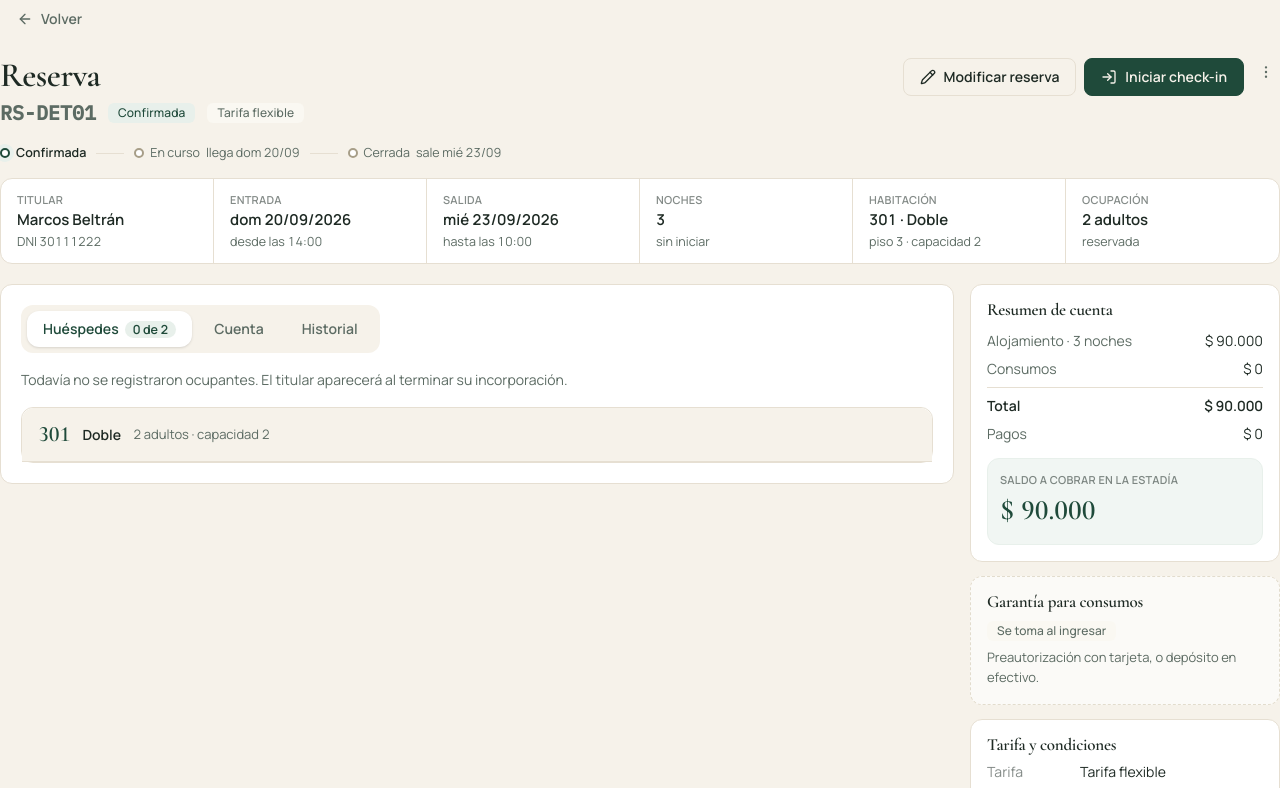
ReservaDetallePage — aviso de la penalidad al cancelar › con prepago: avisa lo que se retiene y lo que se devuelve
Click the button named "Más acciones de la reserva" at {"x": 1266, "y": 72}, box [1252,58,1279,86]
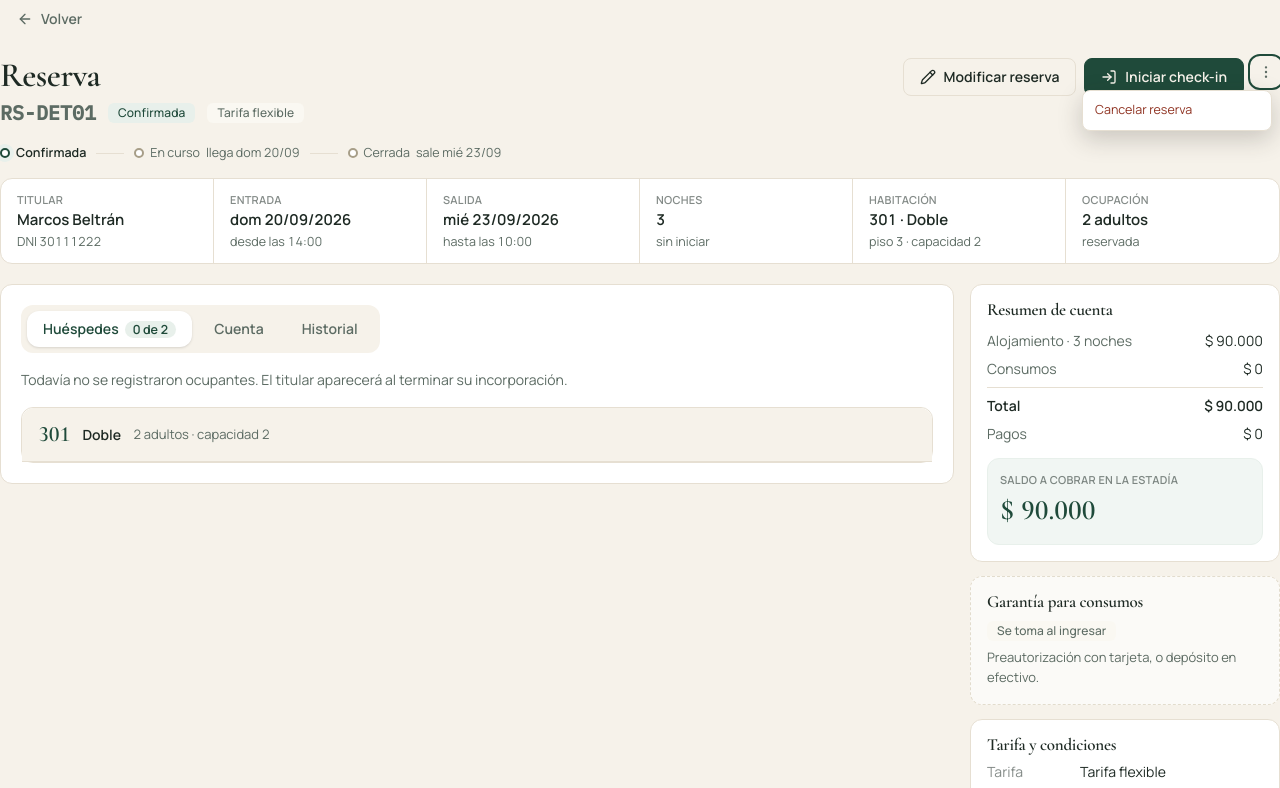
Click the button "Cancelar reserva" at {"x": 1177, "y": 110}, box [1083,95,1271,126]
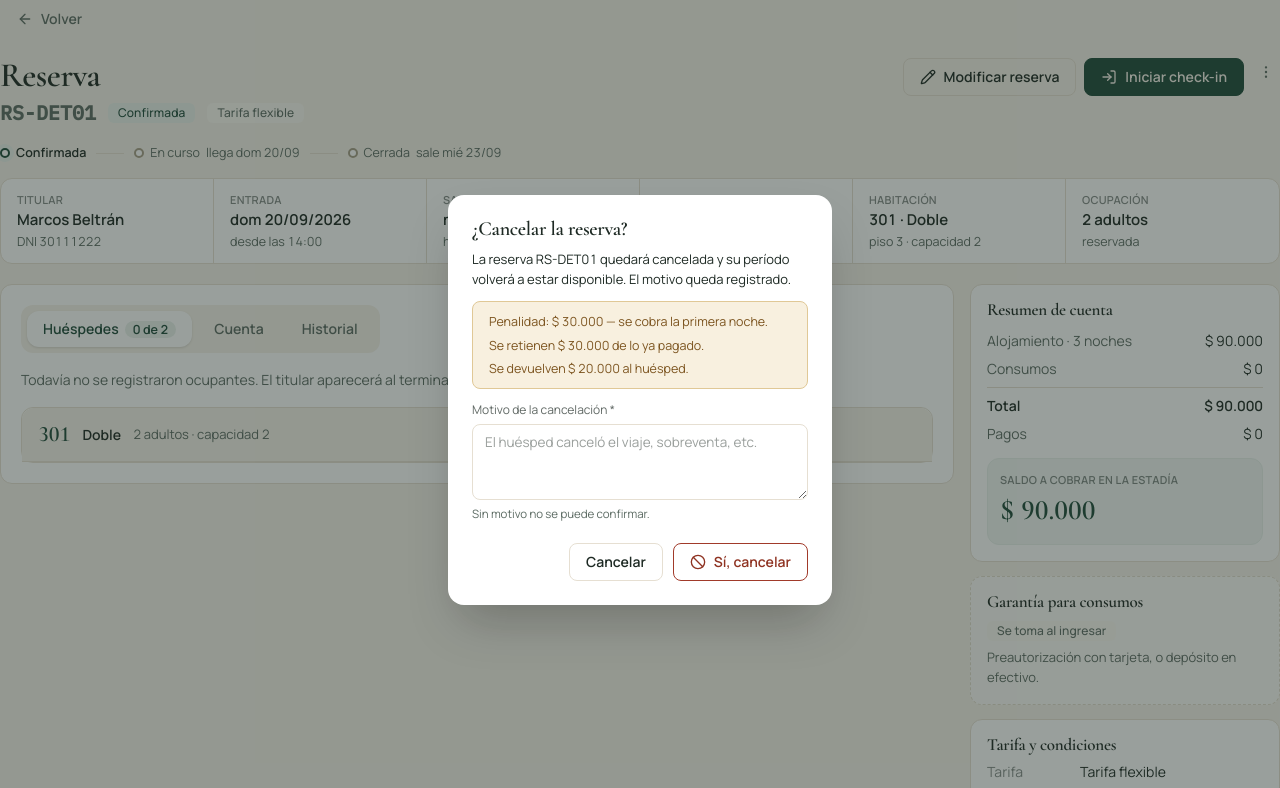
expect the text "Se retienen $ 30.000 de lo ya pagado." is shown: met, box [489,336,704,354]
expect the text "Se devuelven $ 20.000 al huésped." is shown: met, box [489,360,689,377]
